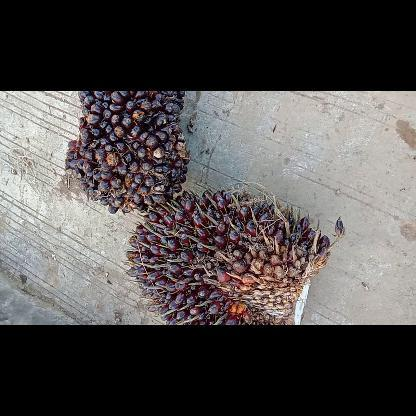TBS mentah: (124, 190, 344, 324), (64, 91, 188, 215)
